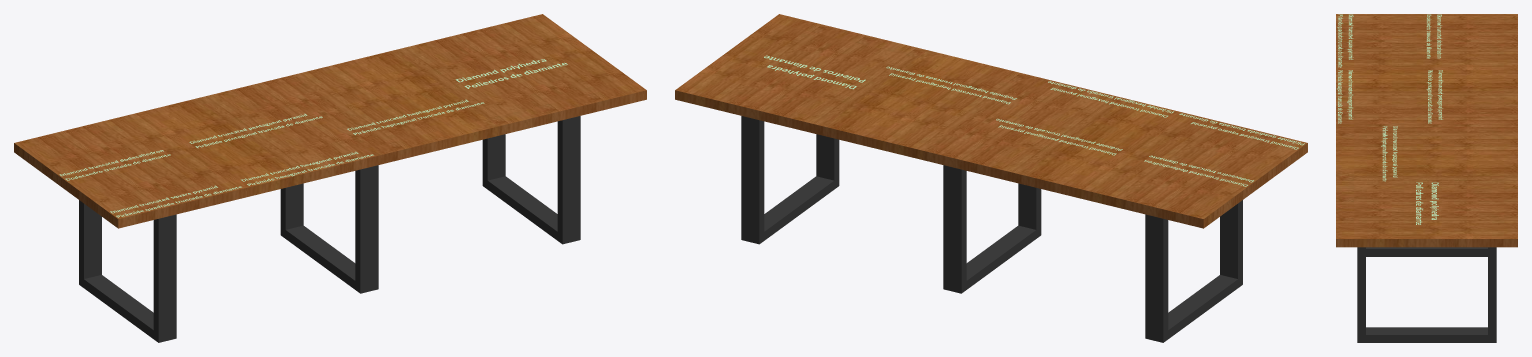
The model's file is diamonds5.glb.
3 views of the same model, side by side, from view 1: azimuth 30°, elevation 25°; view 2: azimuth 150°, elevation 25°; view 3: azimuth 270°, elevation 25° (orthographic). The views are drawn at different scales.
Visible parts, largest first — view 1: object 1, Composant#1 (×3), Diamond truncate#4, Diamond truncate#2, Diamond polyhedr#1, Diamond truncate#3, Diamond truncate#1; view 2: object 1, Composant#1 (×3), Diamond truncate#4, Diamond polyhedr#1, Diamond truncate#2, Diamond truncate#3, Diamond truncate#1; view 3: object 1, Composant#1 (×2), Diamond polyhedr#1, Diamond truncate#4, Diamond truncate#3, Diamond truncate#2, Diamond truncate#1, Diamond truncate.
Boxes of the visible parts, x1,y1,x2,y2 form: object 1: (14,14,646,228); Composant#1 (×3): (79,116,580,342); Diamond truncate#4: (347,99,484,134); Diamond truncate#2: (189,113,322,148); Diamond polyhedr#1: (455,59,567,88); Diamond truncate#3: (241,151,373,185); Diamond truncate#1: (110,185,241,217); object 1: (675,14,1307,228); Composant#1 (×3): (741,116,1242,342); Diamond truncate#4: (886,66,1016,104); Diamond polyhedr#1: (764,55,865,89); Diamond truncate#2: (996,118,1122,155); Diamond truncate#3: (1048,81,1173,117); Diamond truncate#1: (1179,113,1304,149); object 1: (1336,14,1517,247); Composant#1 (×2): (1357,247,1496,342); Diamond polyhedr#1: (1416,182,1438,224); Diamond truncate#4: (1381,126,1397,181); Diamond truncate#3: (1337,70,1353,123); Diamond truncate#2: (1426,70,1442,123); Diamond truncate#1: (1337,14,1353,67); Diamond truncate: (1426,14,1441,58).
Bounding box in the file's own units: 2.93 × 0.7711 × 1.
3 materials, 1 textured.
